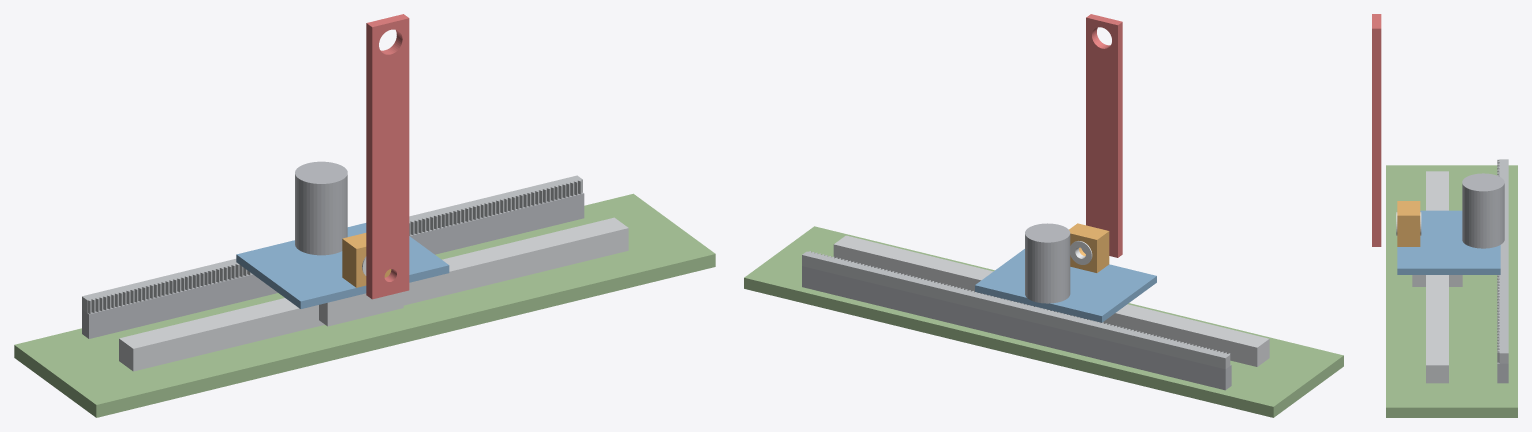
File: step-12.glb
3 renders of one model, left to right at view 1: azimuth 30°, elevation 25°; view 2: azimuth 150°, elevation 25°; view 3: azimuth 270°, elevation 25°, orthographic. The views are drawn at different scales.
Parts seen in each view (by area): view 1: base-plate__mesh, rail__mesh, arm-lower__mesh, riser__mesh, rack__mesh, cart__mesh, motor__mesh, block__mesh, pivot__mesh; view 2: base-plate__mesh, riser__mesh, arm-lower__mesh, rail__mesh, rack__mesh, cart__mesh, motor__mesh, pivot__mesh; view 3: base-plate__mesh, cart__mesh, rail__mesh, motor__mesh, arm-lower__mesh, rack__mesh, pivot__mesh, block__mesh, riser__mesh.
Boxes of the visible parts, <box> form: base-plate__mesh: <box>14,193,715,417</box>; rail__mesh: <box>119,217,628,371</box>; arm-lower__mesh: <box>366,14,409,299</box>; riser__mesh: <box>82,192,584,338</box>; rack__mesh: <box>82,175,582,313</box>; cart__mesh: <box>236,223,449,308</box>; motor__mesh: <box>295,161,347,255</box>; block__mesh: <box>319,292,403,326</box>; pivot__mesh: <box>342,233,391,287</box>; base-plate__mesh: <box>744,226,1343,417</box>; riser__mesh: <box>802,266,1231,390</box>; arm-lower__mesh: <box>1086,14,1122,257</box>; rail__mesh: <box>833,235,1269,366</box>; rack__mesh: <box>802,251,1230,369</box>; cart__mesh: <box>975,249,1156,322</box>; motor__mesh: <box>1025,223,1070,303</box>; pivot__mesh: <box>1069,223,1109,272</box>; base-plate__mesh: <box>1386,165,1517,417</box>; cart__mesh: <box>1397,210,1500,274</box>; rail__mesh: <box>1426,171,1448,383</box>; motor__mesh: <box>1462,173,1504,248</box>; arm-lower__mesh: <box>1372,14,1381,246</box>; rack__mesh: <box>1497,159,1508,363</box>; pivot__mesh: <box>1397,201,1420,246</box>; block__mesh: <box>1412,275,1462,286</box>; riser__mesh: <box>1497,362,1508,383</box>.
Bounding box in the file's own units: 0.5 × 0.256 × 0.127.
